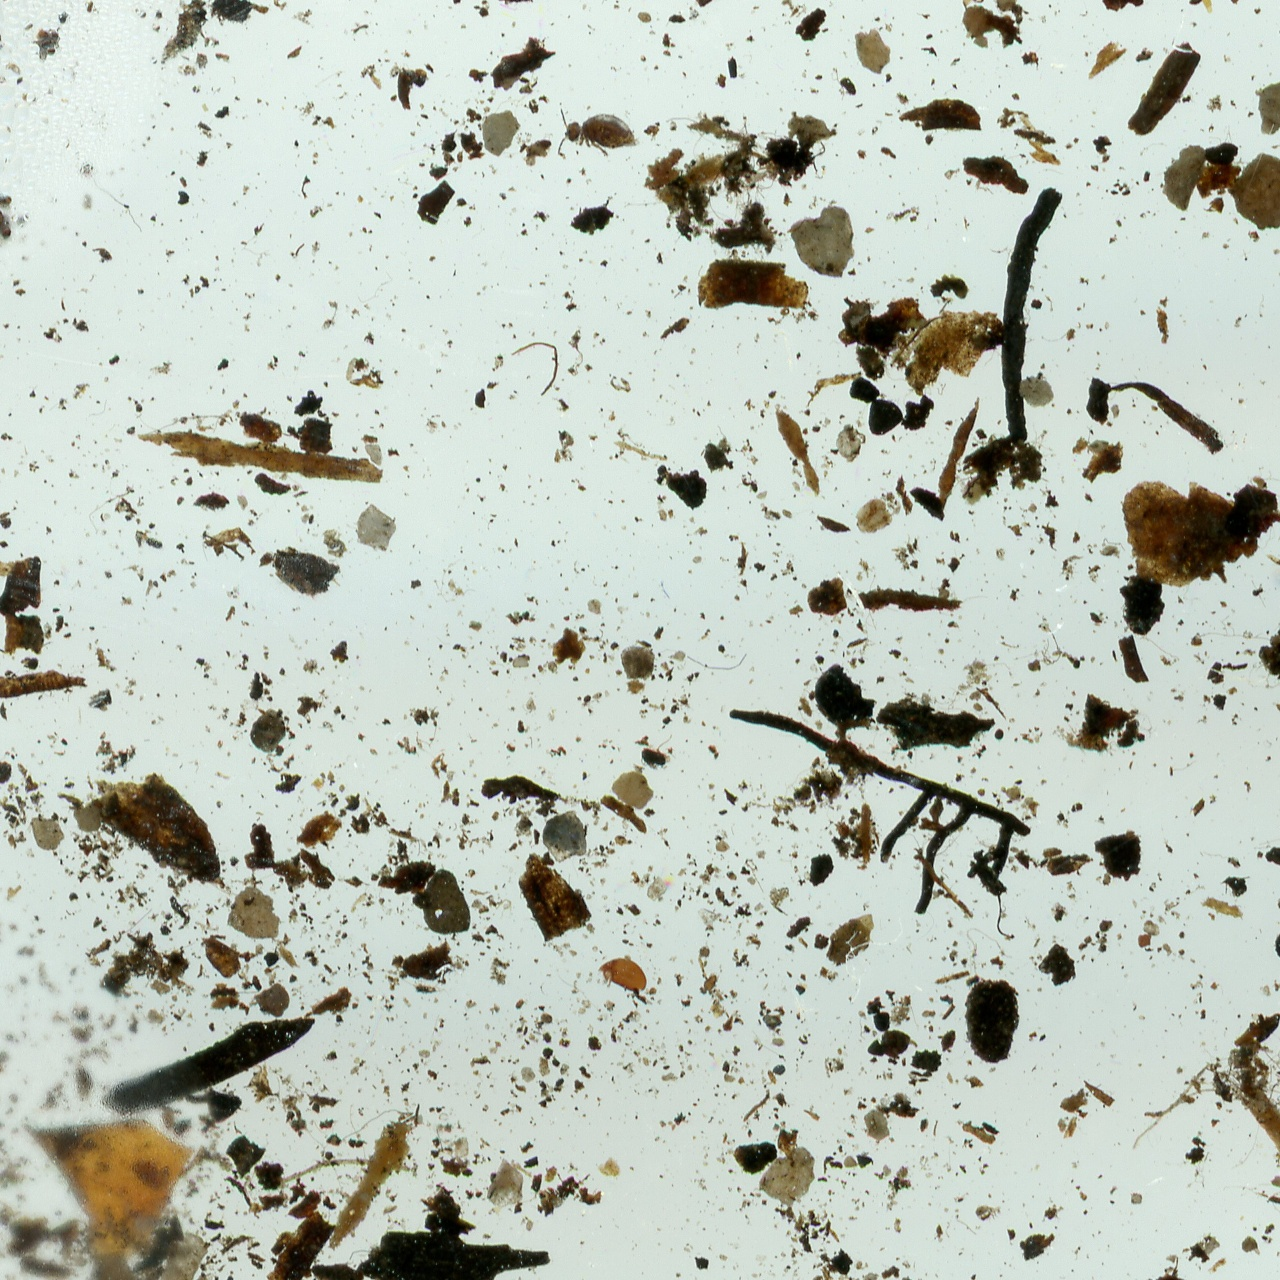arthropod: (556, 105, 638, 162), (476, 1259, 640, 1280), (597, 955, 648, 994)
